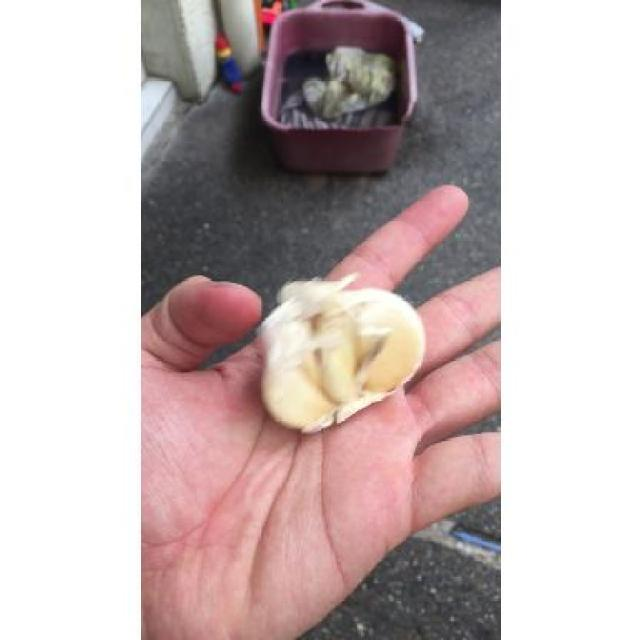Garlic: (241, 260, 438, 440)
